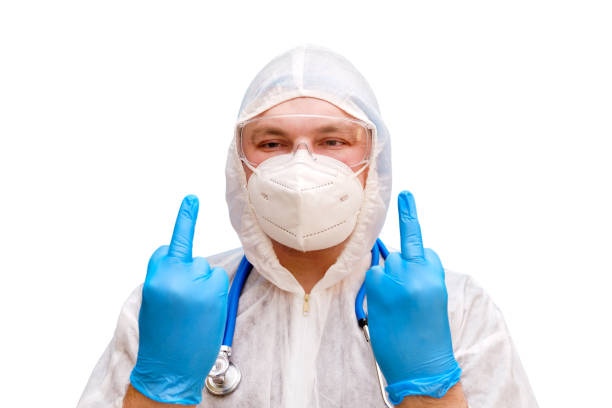insulting_gesture: (138, 192, 228, 369), (365, 191, 447, 359)
